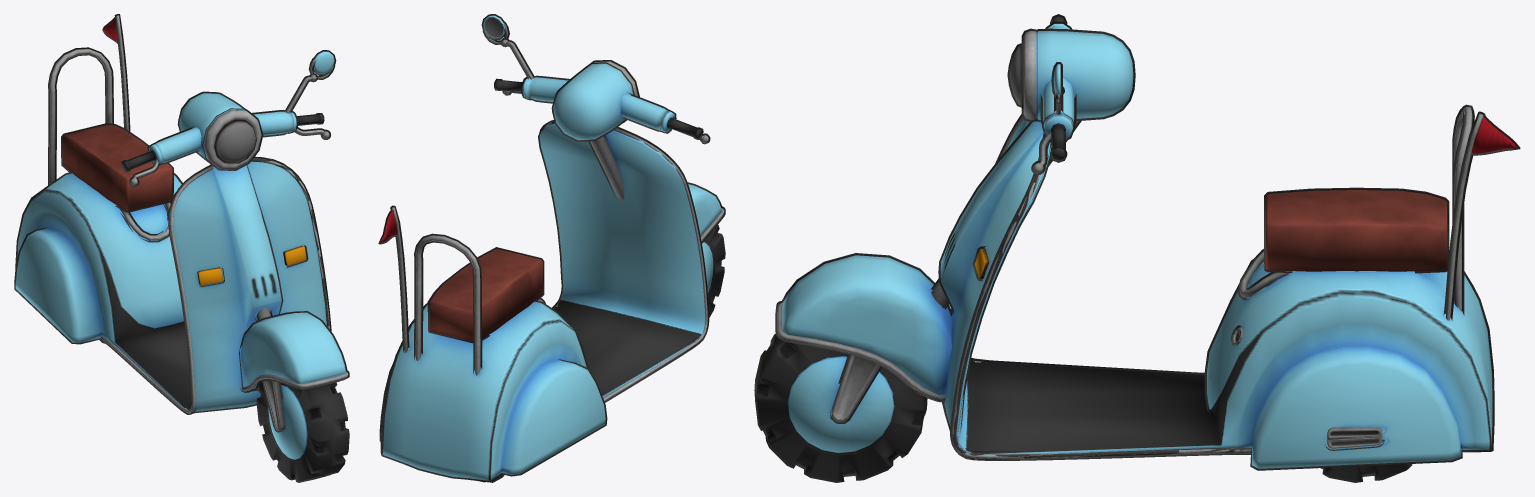
File: motorbike.meshopt.glb
The picture shows the model from 3 angles, left to right: view 1: azimuth 30°, elevation 25°; view 2: azimuth 150°, elevation 25°; view 3: azimuth 270°, elevation 25°; orthographic projection. The views are drawn at different scales.
Parts seen in each view (by area): view 1: Cube.005, Cube.009; view 2: Cube.005, Cube.009; view 3: Cube.005, Cube.009.
Part boxes in pixels (x1,y1,x2,y2): Cube.005: (15,15,348,481); Cube.009: (14,14,349,482); Cube.005: (380,15,724,480); Cube.009: (378,14,725,482); Cube.005: (756,16,1518,480); Cube.009: (754,14,1520,482).
Size of the model in its own units: 300 by 462 by 673.
Materials: 2 (1 with a texture image).
